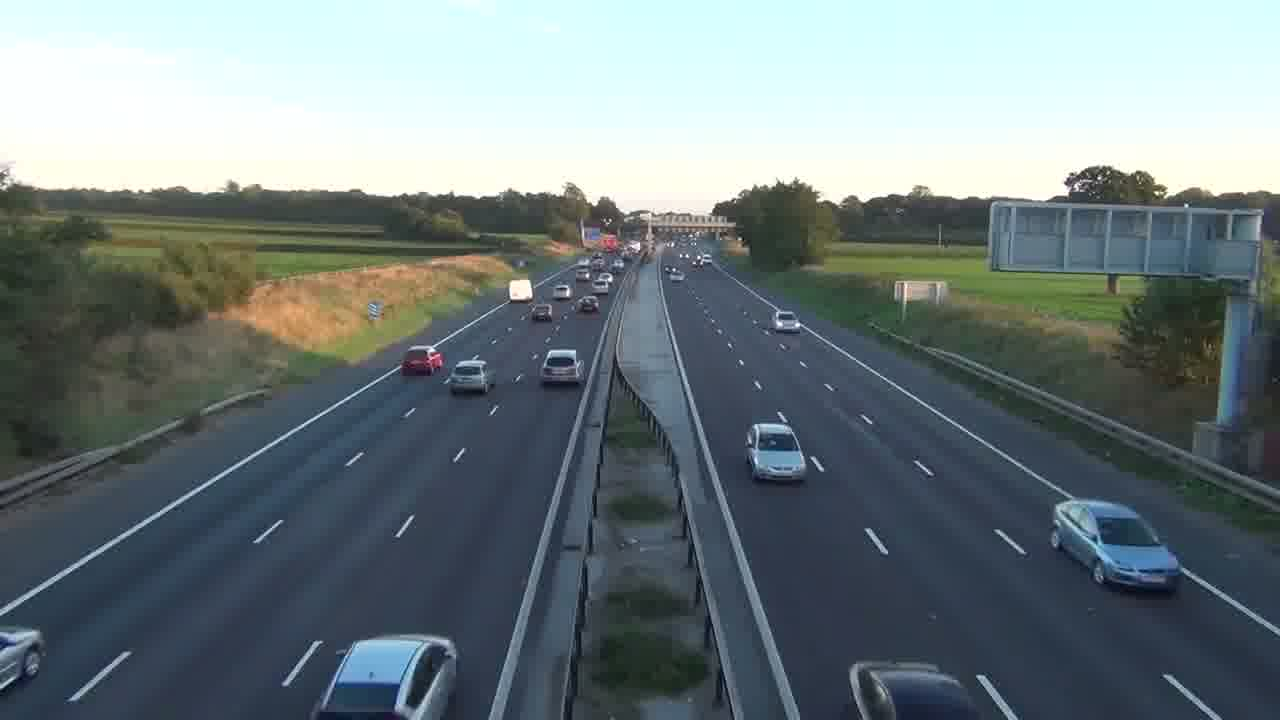car: (1050, 498, 1183, 595), (310, 633, 460, 718), (847, 660, 983, 718), (745, 422, 807, 483), (0, 622, 47, 693), (445, 358, 493, 395), (540, 348, 582, 386), (401, 345, 441, 375), (772, 309, 801, 334), (576, 294, 599, 314)
truck: (509, 278, 533, 303)
